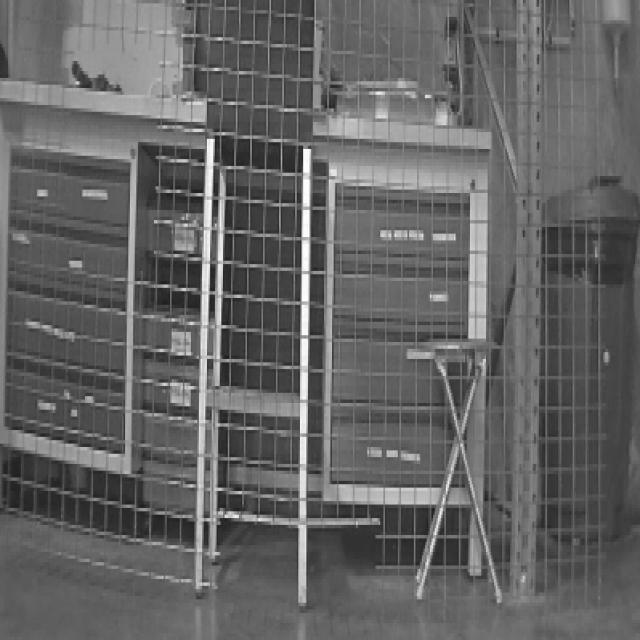fence line: (68, 18, 161, 272), (216, 512, 384, 602)
